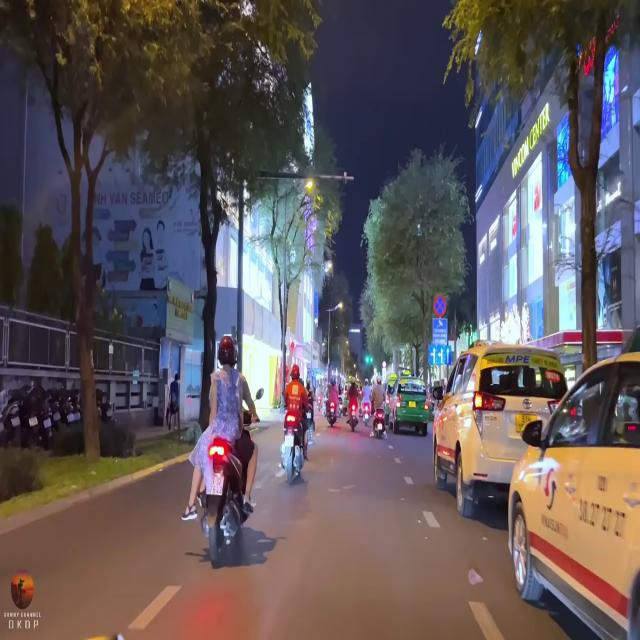bien_trang: (205, 470, 224, 496)
bien_vang: (514, 410, 538, 433)
